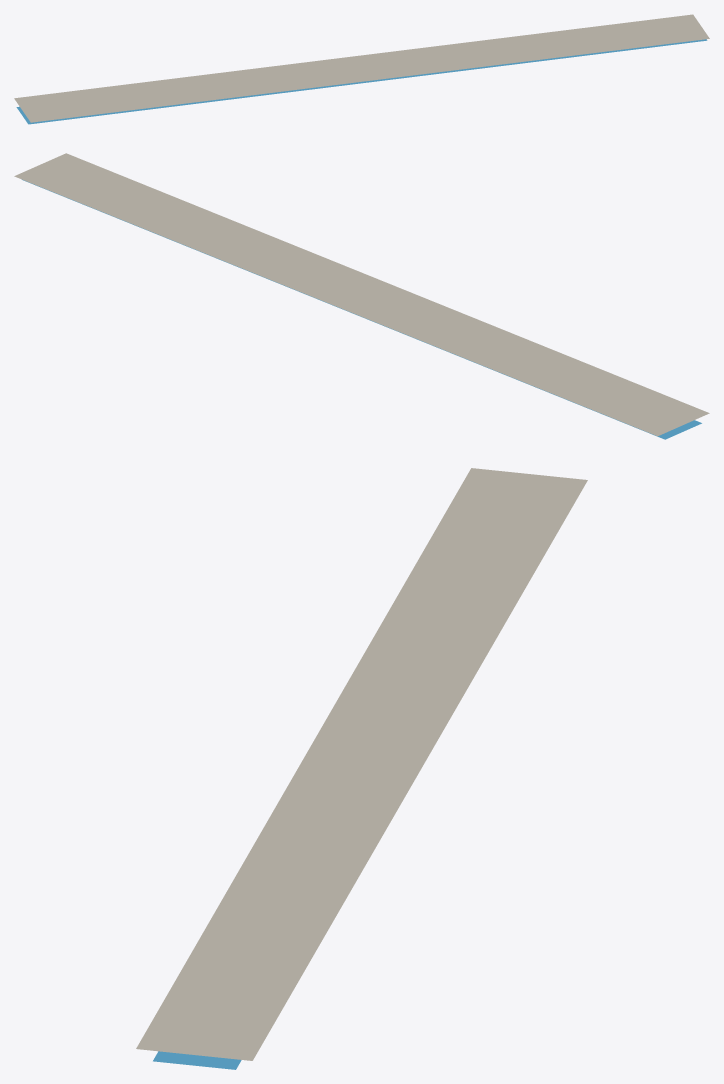
3 renders of one model, top to bottom at view 1: azimuth 30°, elevation 25°; view 2: azimuth 150°, elevation 25°; view 3: azimuth 270°, elevation 25°, orthographic. The views are drawn at different scales.
Visible parts, largest first — view 1: estructura_terreno, estructura_agua; view 2: estructura_terreno, estructura_agua; view 3: estructura_terreno, estructura_agua.
Part boxes in pixels (x1,y1,x2,y2): estructura_terreno: [14, 14, 709, 122]; estructura_agua: [16, 39, 707, 124]; estructura_terreno: [14, 153, 709, 436]; estructura_agua: [22, 179, 701, 439]; estructura_terreno: [136, 468, 587, 1060]; estructura_agua: [153, 1051, 241, 1069].
Size of the model in its own units: 49.05 by 0.41 by 15.8.
